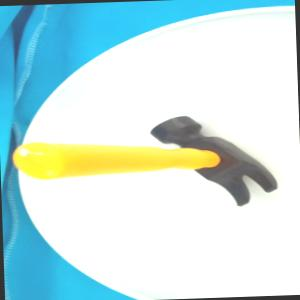martelo: (11, 111, 280, 214)
